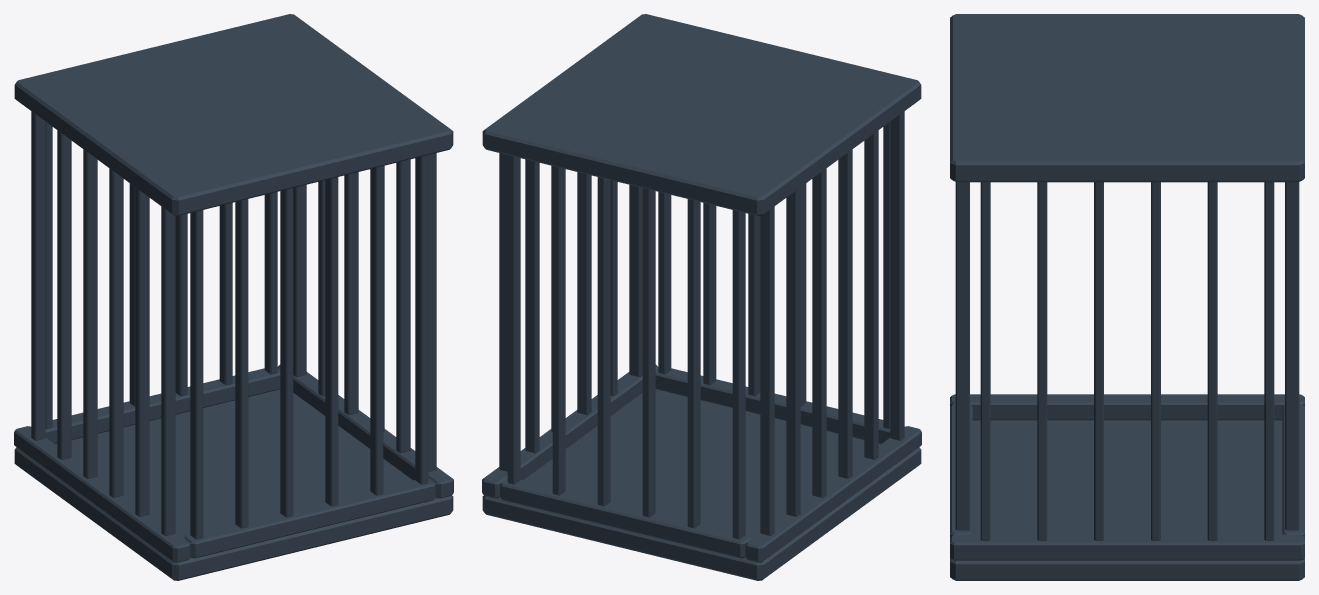
File: cage.glb
3 views of the same model, side by side, from view 1: azimuth 30°, elevation 25°; view 2: azimuth 150°, elevation 25°; view 3: azimuth 270°, elevation 25° (orthographic). The views are drawn at different scales.
Parts seen in each view (by area): view 1: cage__body; view 2: cage__body; view 3: cage__body.
Part boxes in pixels (left/top/right/bottom): cage__body: left=14, top=14, right=453, bottom=580; cage__body: left=482, top=14, right=921, bottom=580; cage__body: left=950, top=14, right=1304, bottom=580.
Bounding box in the file's own units: 1.25 × 1.63 × 1.25.
